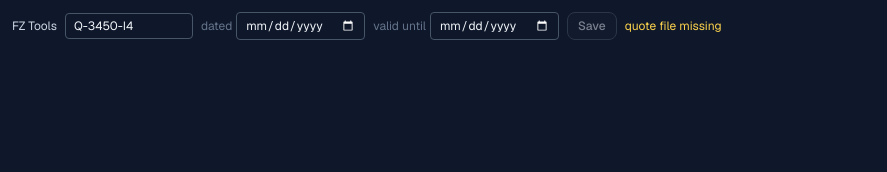
PositionBasis (spec §4, C25) › P3-2: a date typed after saving the number says it is not saved and goes with Save
Later steps or results of the test are not shown.
Expected: the button with test id "quoteref-save-4" is disabled, [567,12,617,40]
Step 1. Type "2026-10-27" into the date field with test id "quoteref-on-4" → (301, 26), box [236,12,365,40]
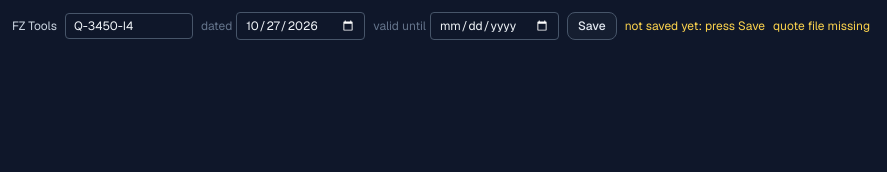
Expected: the text with test id "quoteref-unsaved-4" shows "press Save", [625,18,765,34]
